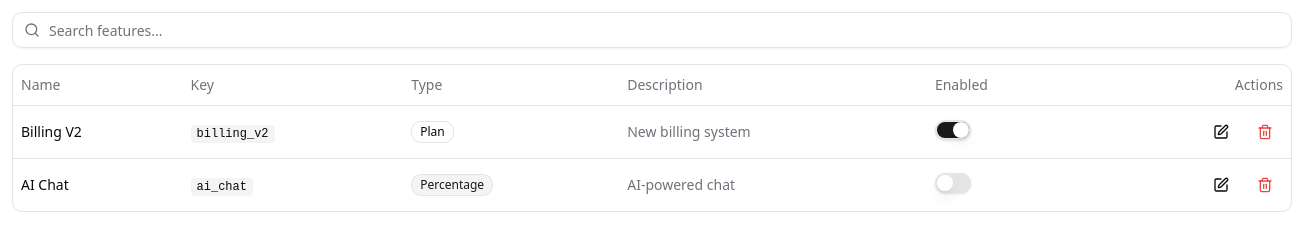
it: FeaturesList › filters features by search query
Type "billing" into the field with placeholder "Search features..." at coordinates (652, 30), box [12,12,1292,48]
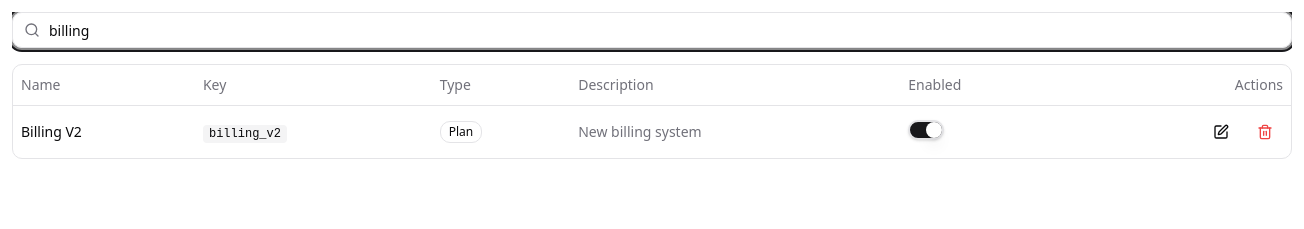
Check: the text "Billing V2" is shown, box [13,105,195,158]
Check: the text "AI Chat" is gone
